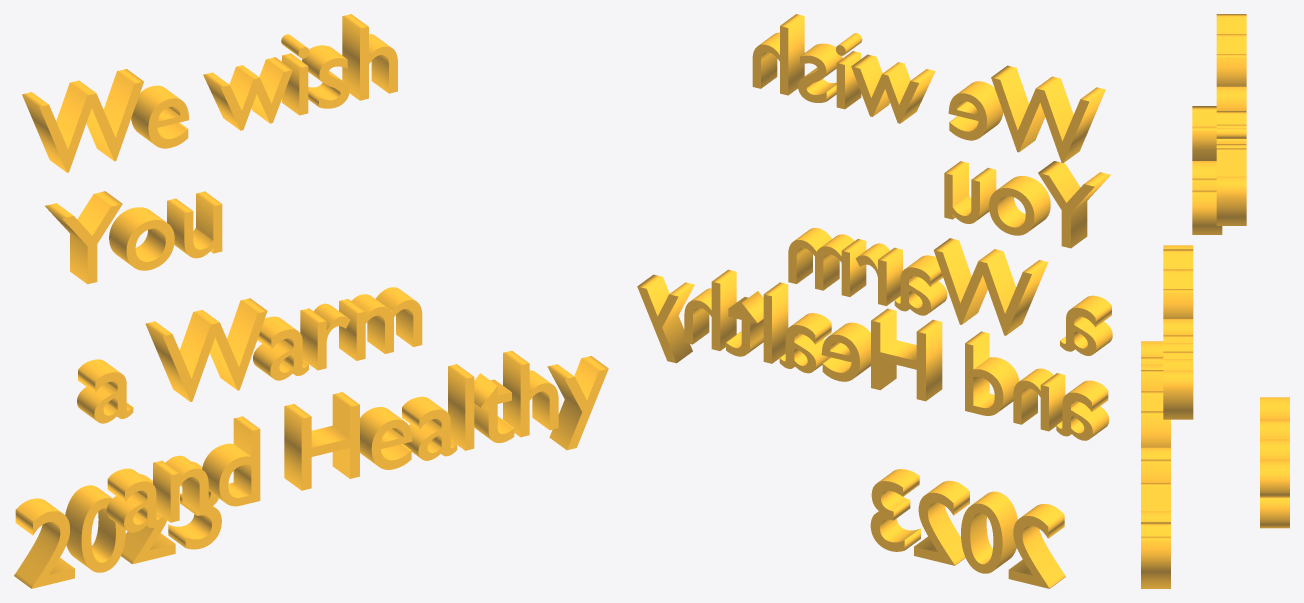
The model's file is wewish.glb.
3 views of the same model, side by side, from view 1: azimuth 30°, elevation 25°; view 2: azimuth 150°, elevation 25°; view 3: azimuth 270°, elevation 25° (orthographic). The views are drawn at different scales.
Visible parts, largest first — view 1: Text.002, Text.001, Text, Text.004, Text.003; view 2: Text.002, Text.001, Text, Text.004, Text.003; view 3: Text.002, Text.001, Text, Text.004, Text.003.
Boxes of the visible parts, x1,y1,x2,y2 form: Text.002: [106, 350, 608, 532]; Text.001: [22, 14, 397, 172]; Text: [77, 287, 422, 423]; Text.004: [14, 461, 221, 588]; Text.003: [45, 191, 222, 284]; Text.002: [637, 269, 1109, 440]; Text.001: [752, 14, 1105, 163]; Text: [788, 228, 1112, 355]; Text.004: [870, 469, 1065, 588]; Text.003: [944, 161, 1110, 248]; Text.002: [1141, 341, 1170, 588]; Text.001: [1216, 14, 1246, 225]; Text: [1163, 245, 1193, 419]; Text.004: [1260, 397, 1289, 528]; Text.003: [1192, 106, 1222, 234].
Size of the model in its own units: 5.22 by 4.8 by 1.49.
